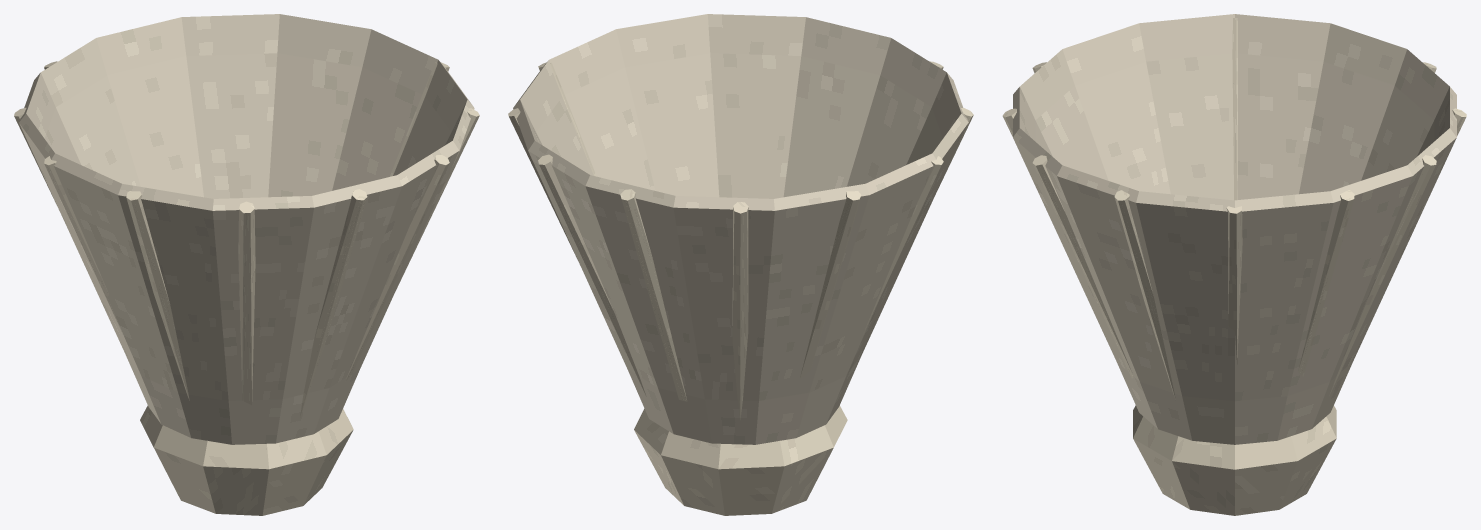
Rendered from shuttlecock.glb.
The picture shows the model from 3 angles, left to right: view 1: azimuth 30°, elevation 25°; view 2: azimuth 150°, elevation 25°; view 3: azimuth 270°, elevation 25°; orthographic projection.
Visible parts, largest first — view 1: block_feather cage, block_rounded cork tip, block_quill shaft (×6); view 2: block_feather cage, block_rounded cork tip, block_quill shaft (×5); view 3: block_feather cage, block_rounded cork tip, block_quill shaft (×6).
Part boxes in pixels (<box>): block_feather cage: <box>19,14,474,444</box>; block_rounded cork tip: <box>140,405,353,515</box>; block_quill shaft (×6): <box>44,108,479,417</box>; block_feather cage: <box>513,14,968,444</box>; block_rounded cork tip: <box>634,405,847,515</box>; block_quill shaft (×5): <box>538,154,943,419</box>; block_feather cage: <box>1013,14,1456,444</box>; block_rounded cork tip: <box>1133,405,1336,515</box>; block_quill shaft (×6): <box>1032,18,1436,399</box>.
Bounding box in the file's own units: 0.09 × 0.0858 × 0.0899.
1 material, 1 textured.
